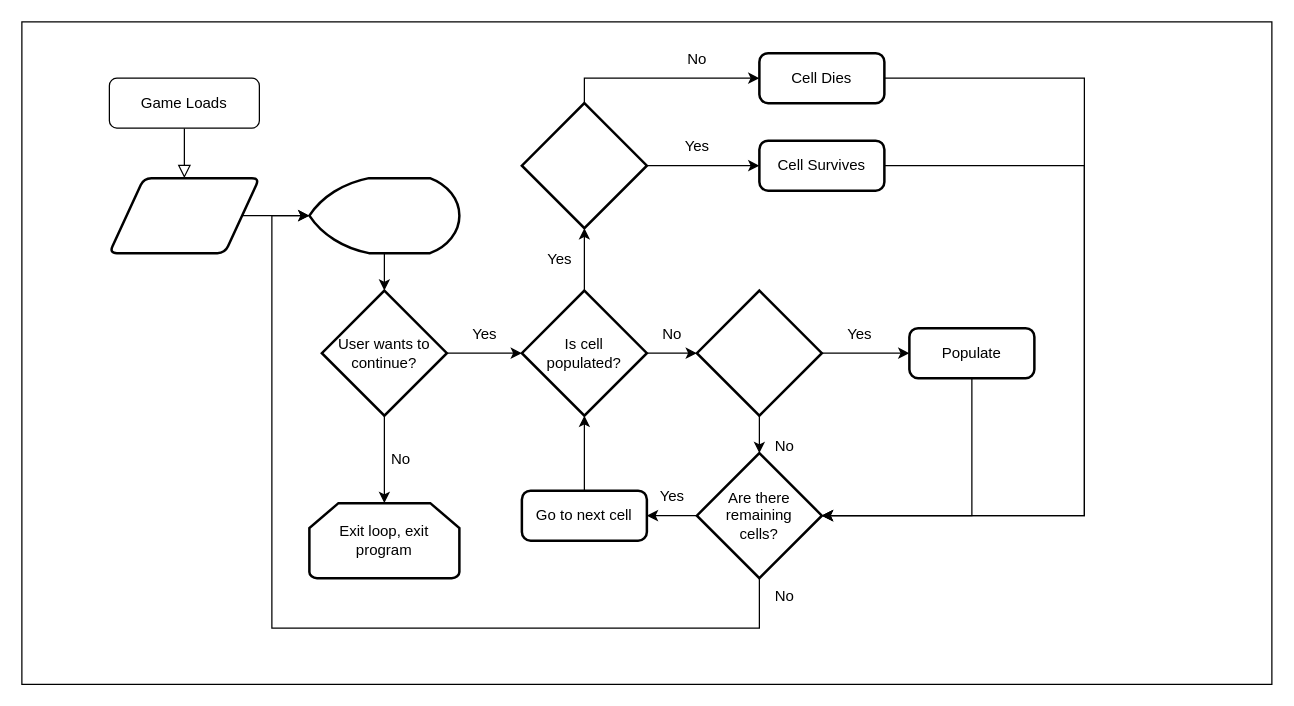
The diagram is 1294 pixels wide and 706 high, and some of its shapes have lost their labels. Here are the shapes that lost their labels. From the top down, the centre of each, then its label:
At (584,165): "Does cell have 2 or 3 neighbors?".
At (184,215): "10x10 Matrix".
At (384,215): "Show State".
At (758,352): "Does cell have 3 neighbors?".
